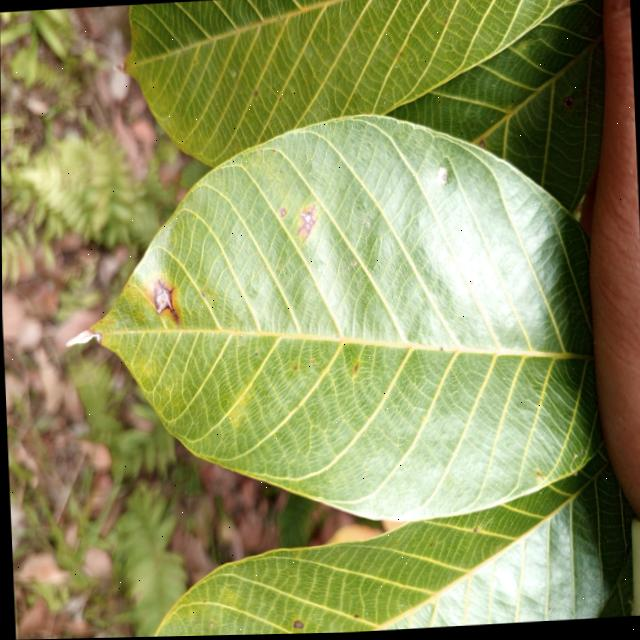Colletotrichum: (310, 360, 313, 363)
Corynespora: (152, 278, 179, 325), (296, 204, 317, 241)
Leaf-Blight: (64, 328, 100, 347)
